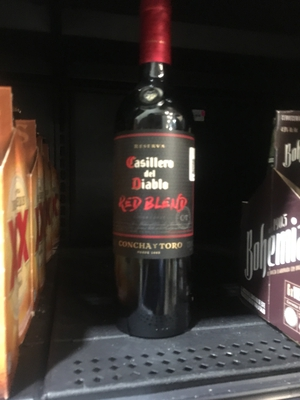casillero del diablo red blend: (92, 10, 211, 332)
